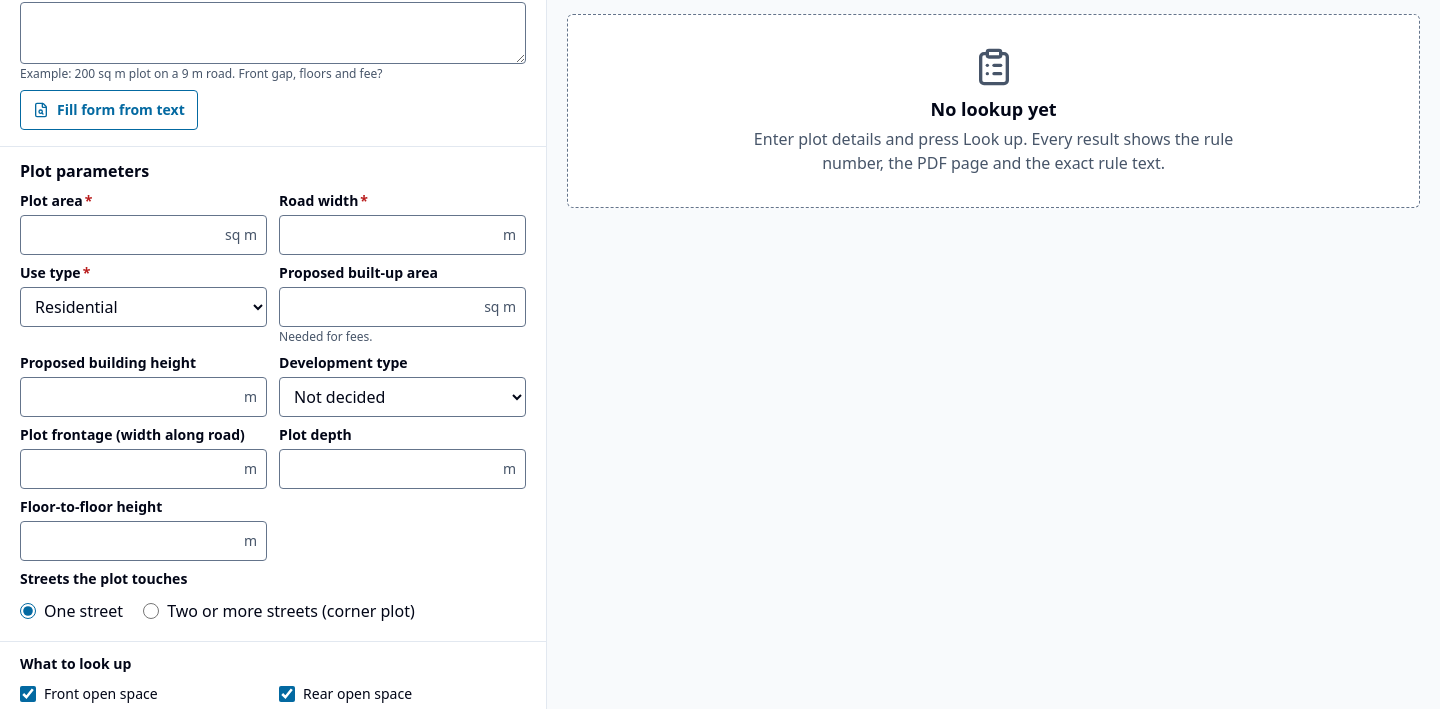
Test: special cases › narrow street in an existing developed area uses Rule 56(1)(b)
This screenshot has width=1440, height=709.
Step 1. Type "200" into the field labelled "Plot area*" → (144, 234), box [20,214,267,254]
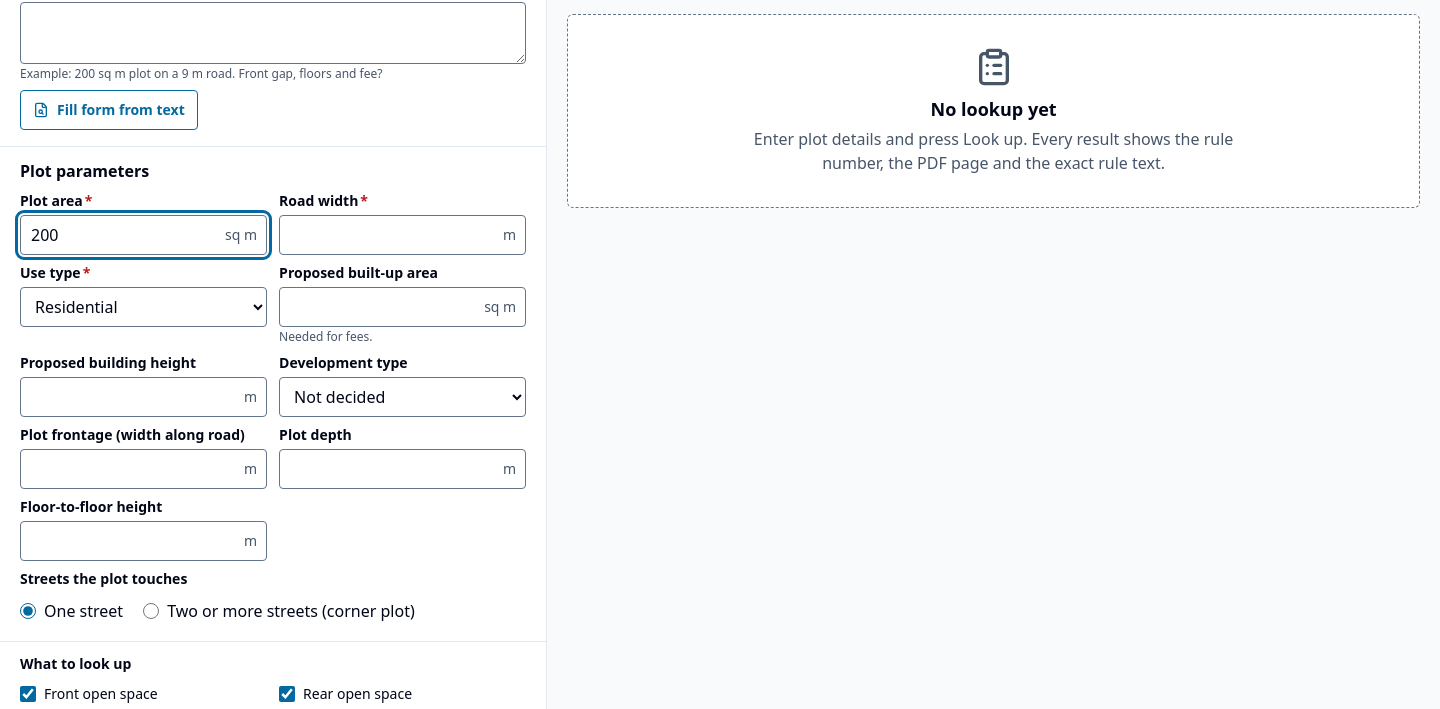
Step 2. Type "5" into the field labelled "Road width*" → (403, 234), box [279,214,526,254]
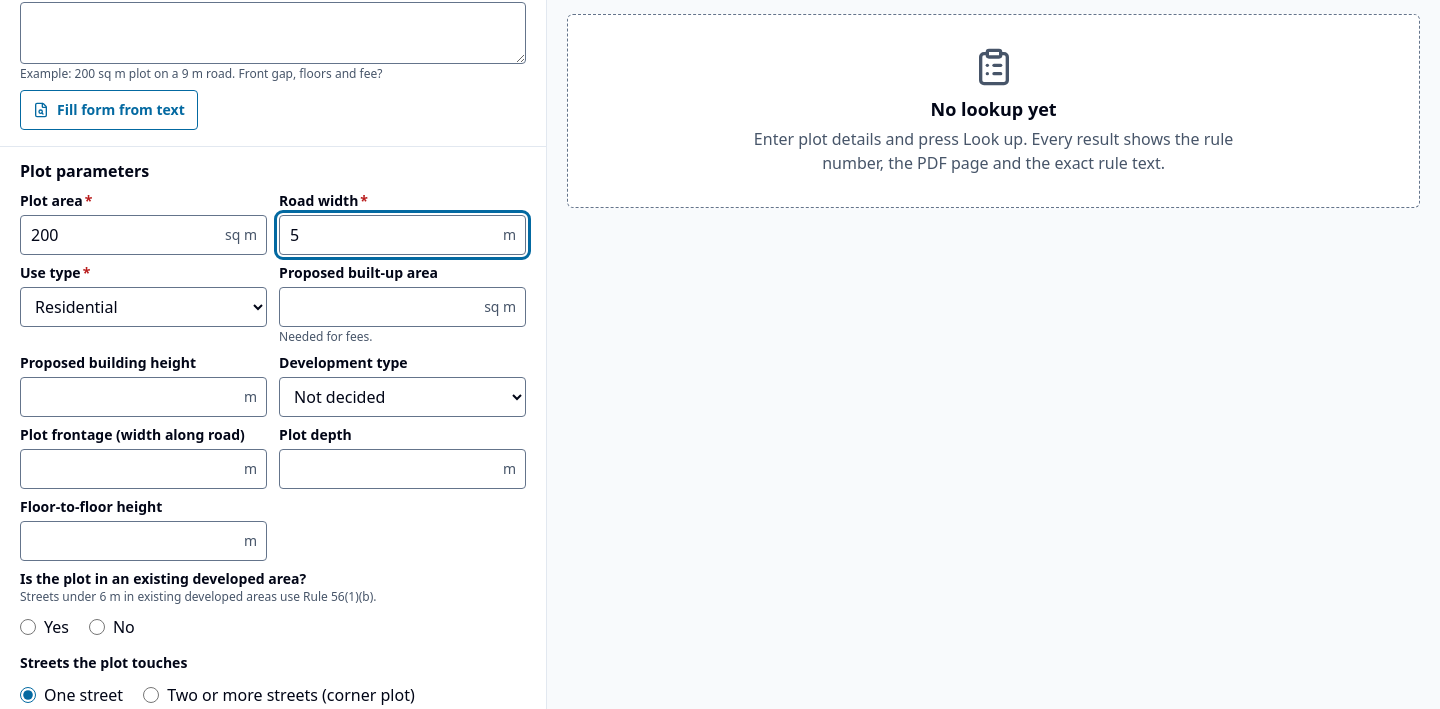
Step 3. Click the radio button labelled "Yes" → (28, 626), box [20,618,36,634]
(page scrolled)
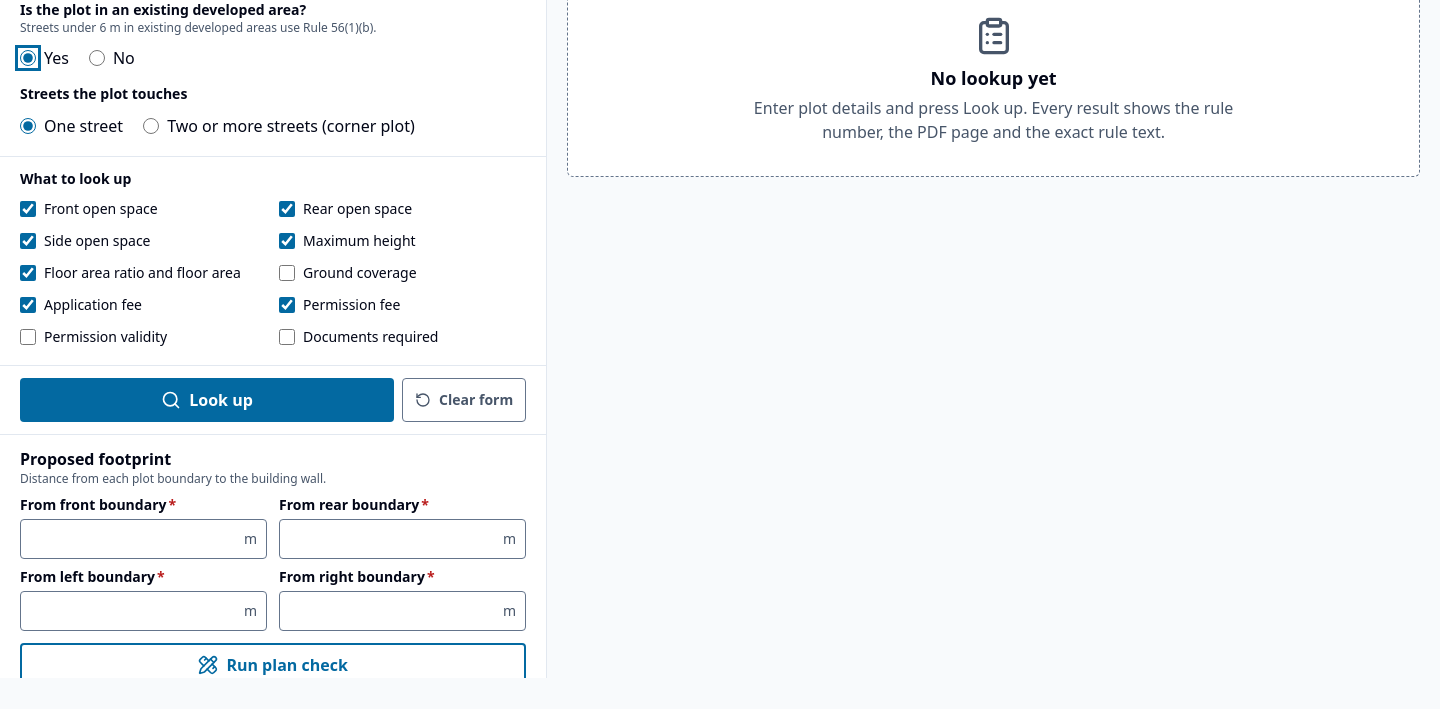
Step 4. Click the checkbox labelled "Application fee" → (28, 304), box [20,296,36,312]
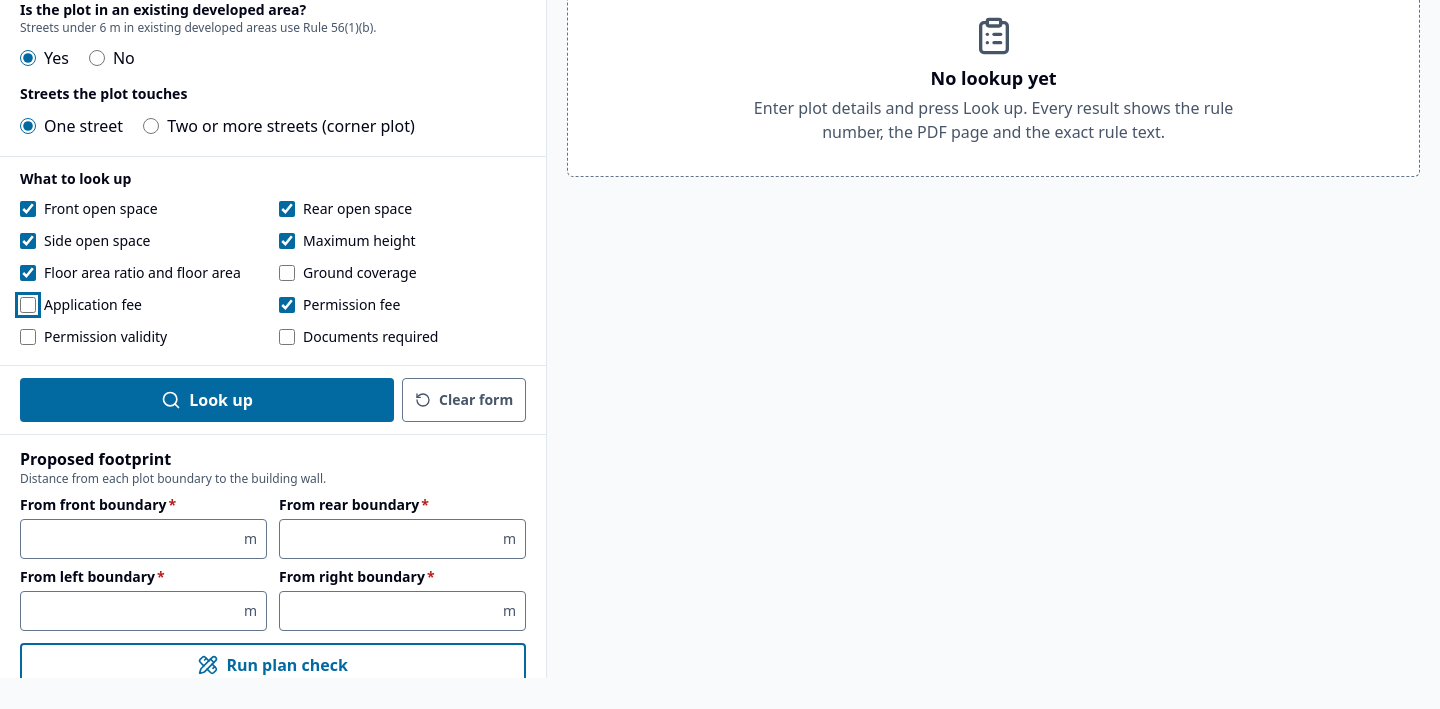
Step 5. Click the checkbox labelled "Permission fee" → (287, 304), box [279,296,295,312]
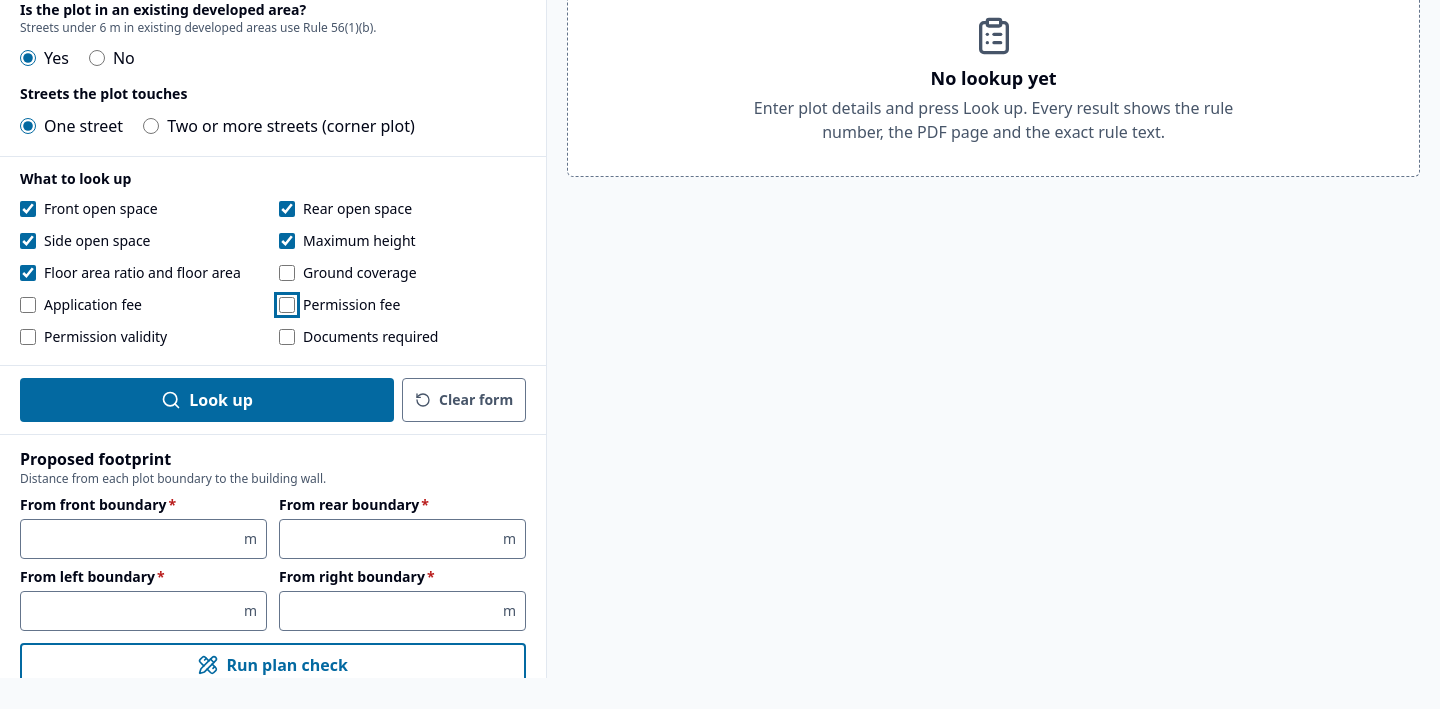
Step 6. Click the button "Look up" → (207, 400), box [20,378,394,422]
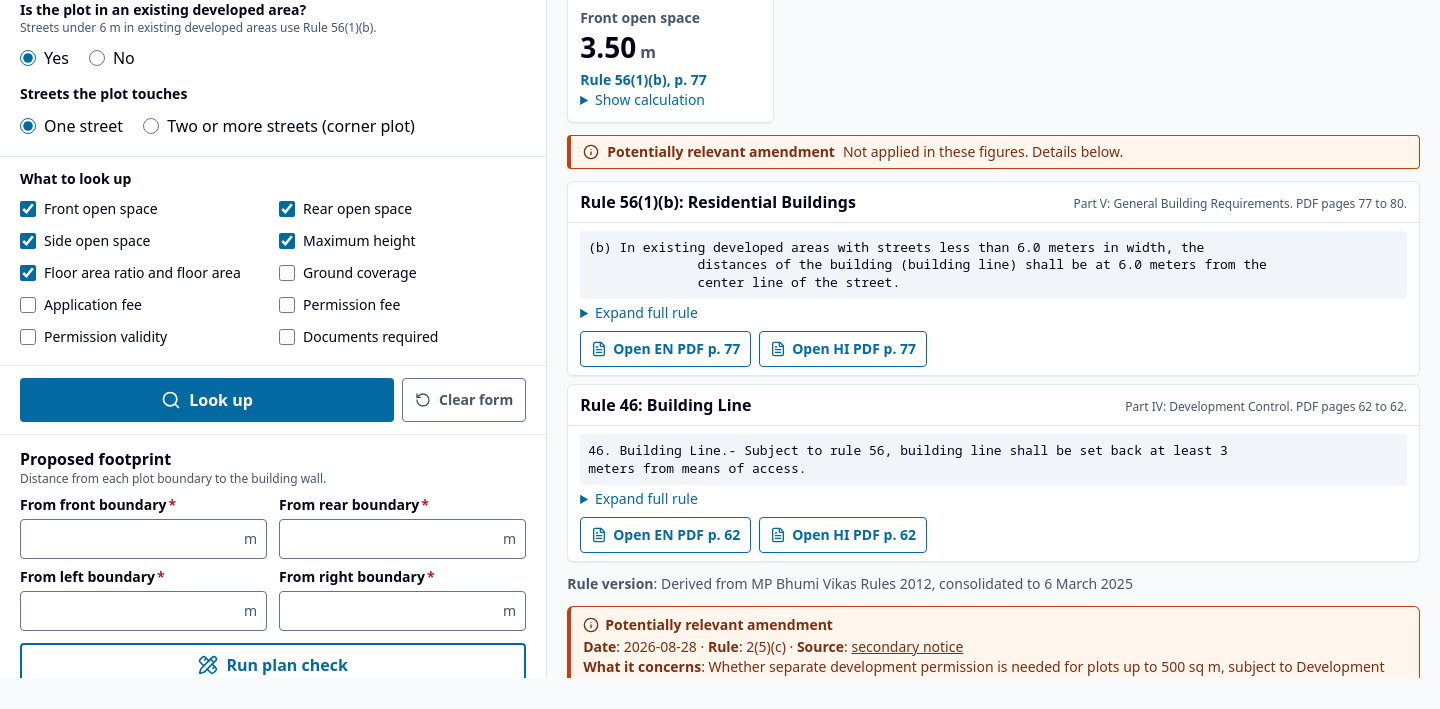
Now the text "3.50" is shown, box [580,28,636,66]
Now the link "Rule 56(1)(b), p. 77" is shown, box [580,70,707,90]
